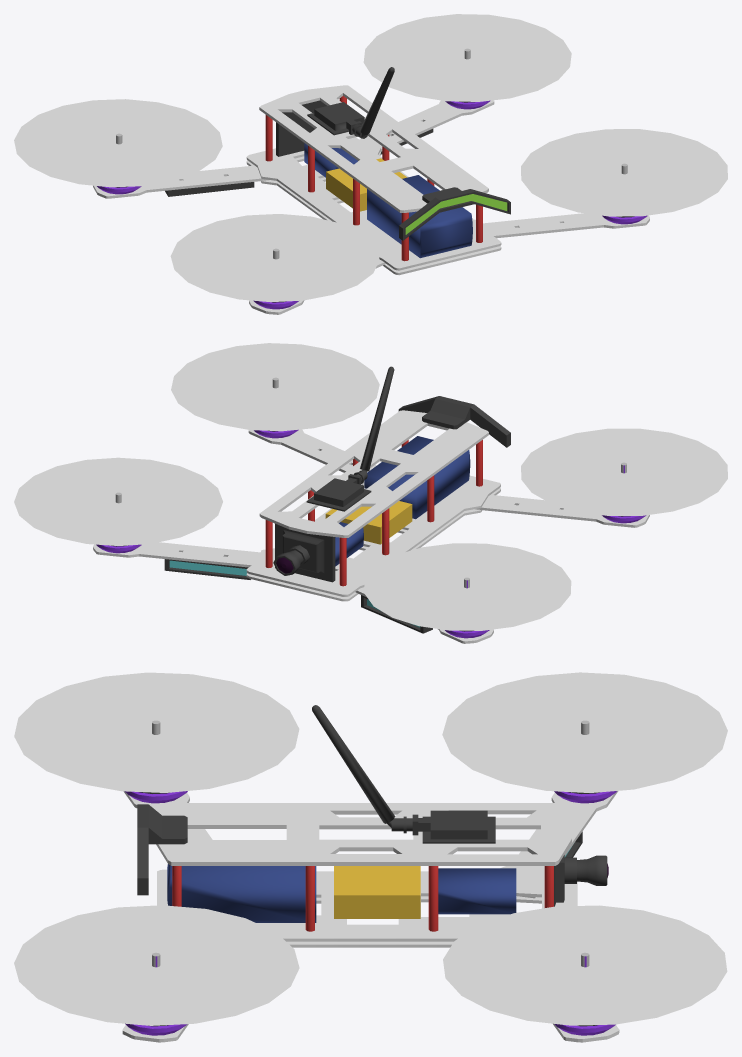
File: Drone.fbx
3 views of the same model, one above another, from view 1: azimuth 30°, elevation 25°; view 2: azimuth 150°, elevation 25°; view 3: azimuth 270°, elevation 25° (orthographic). The views are drawn at different scales.
Visible parts, largest first — view 1: Circle.003, Circle.005, Circle.004, Circle.002, Cube.004, Cube.003, Cube.002, Cube.001, Cube.009, Cube.005, Cylinder, Cube (+6 smaller); view 2: Circle.002, Circle.005, Circle.003, Circle.004, Cube.004, Cube.003, Cube.002, Cube.008, Cube.001, Cube.005, Cube.009, Cylinder (+6 smaller); view 3: Circle.004, Circle.005, Circle.002, Circle.003, Cube.004, Cube.002, Cube.001, Cube.006, Cube.005, Cube.007, Cube.003, Cube.009 (+5 smaller).
Part boxes in pixels (left/top/right/bottom): Circle.003: left=14, top=99, right=222, bottom=187; Circle.005: left=521, top=129, right=727, bottom=216; Circle.004: left=170, top=214, right=379, bottom=302; Circle.002: left=363, top=14, right=571, bottom=101; Cube.004: left=259, top=85, right=488, bottom=212; Cube.003: left=93, top=100, right=649, bottom=314; Cube.002: left=246, top=137, right=501, bottom=270; Cube.001: left=367, top=175, right=472, bottom=258; Cube.009: left=399, top=187, right=510, bottom=240; Cube.005: left=307, top=67, right=394, bottom=138; Cylinder: left=265, top=96, right=482, bottom=261; Cube: left=246, top=152, right=501, bottom=275; Circle.002: left=14, top=457, right=222, bottom=545; Circle.005: left=171, top=343, right=379, bottom=431; Circle.003: left=364, top=543, right=571, bottom=630; Circle.004: left=521, top=428, right=727, bottom=515; Cube.004: left=259, top=410, right=488, bottom=537; Cube.003: left=93, top=429, right=649, bottom=643; Cube.002: left=246, top=475, right=500, bottom=596; Cube.008: left=273, top=523, right=335, bottom=582; Cube.001: left=364, top=436, right=470, bottom=519; Cube.005: left=306, top=366, right=394, bottom=511; Cube.009: left=398, top=396, right=510, bottom=447; Cylinder: left=265, top=440, right=482, bottom=586; Circle.004: left=14, top=672, right=299, bottom=792; Circle.005: left=14, top=905, right=299, bottom=1025; Circle.002: left=443, top=905, right=727, bottom=1025; Circle.003: left=442, top=672, right=727, bottom=792; Cube.004: left=156, top=803, right=571, bottom=865; Cube.002: left=157, top=866, right=577, bottom=941; Cube.001: left=167, top=864, right=316, bottom=922; Cube.006: left=334, top=866, right=420, bottom=918; Cube.005: left=312, top=705, right=495, bottom=843; Cube.007: left=438, top=868, right=516, bottom=914; Cube.003: left=122, top=791, right=619, bottom=1042; Cube.009: left=137, top=804, right=187, bottom=895.
Bounding box in the file's own units: 1054 × 311 × 900.
